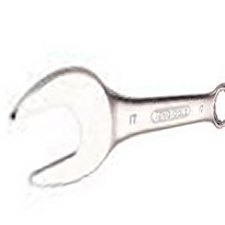Wrench: (13, 60, 225, 190)
